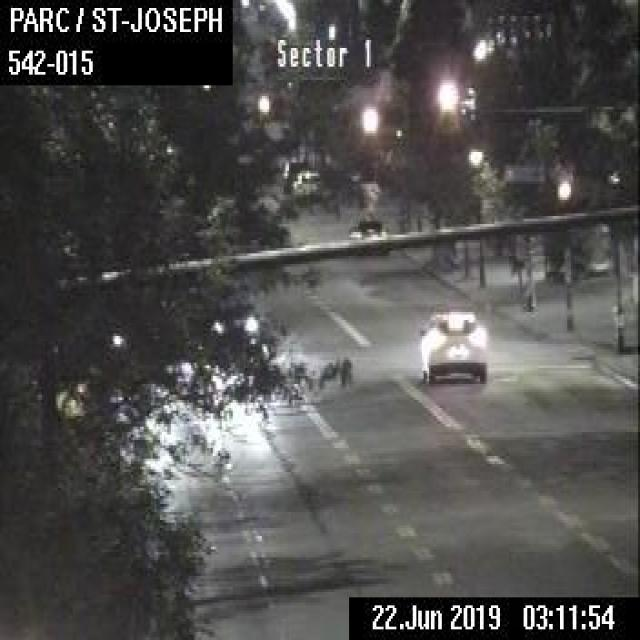vehicle: (417, 304, 488, 381), (204, 292, 258, 344), (345, 211, 391, 256), (289, 167, 321, 199), (280, 158, 308, 189)
